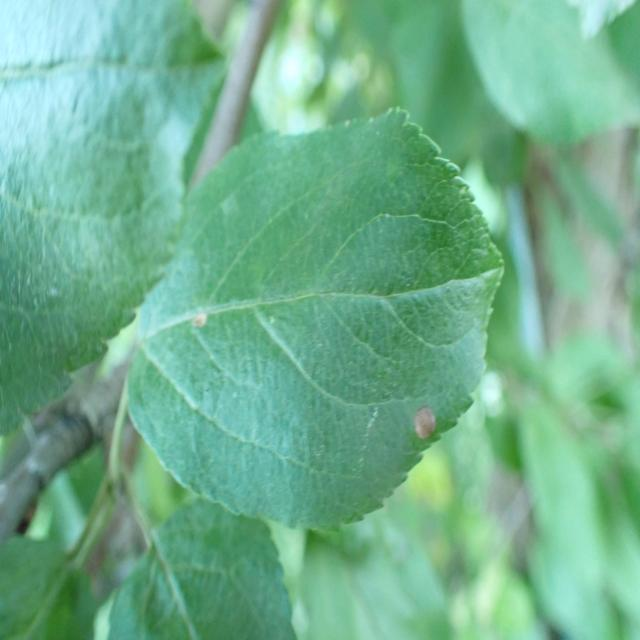Black Rot: (393, 401, 450, 462), (181, 300, 228, 349)
